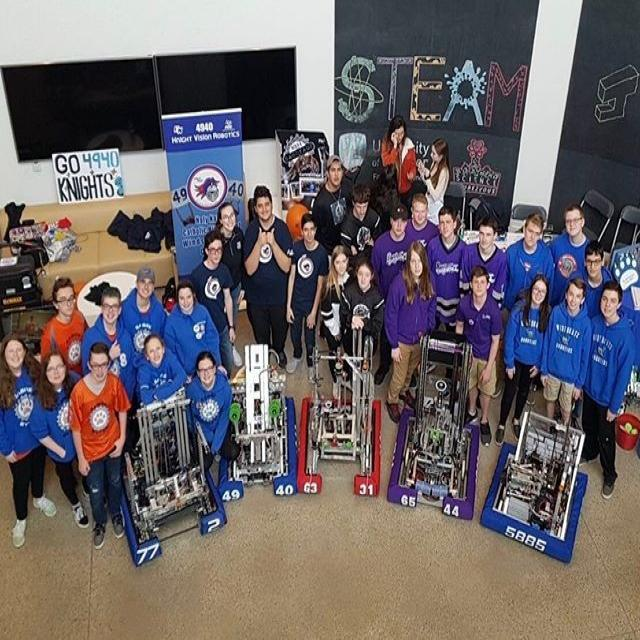robot: (113, 394, 228, 567), (482, 406, 591, 564), (387, 336, 476, 522), (298, 348, 381, 504), (214, 343, 296, 499)
